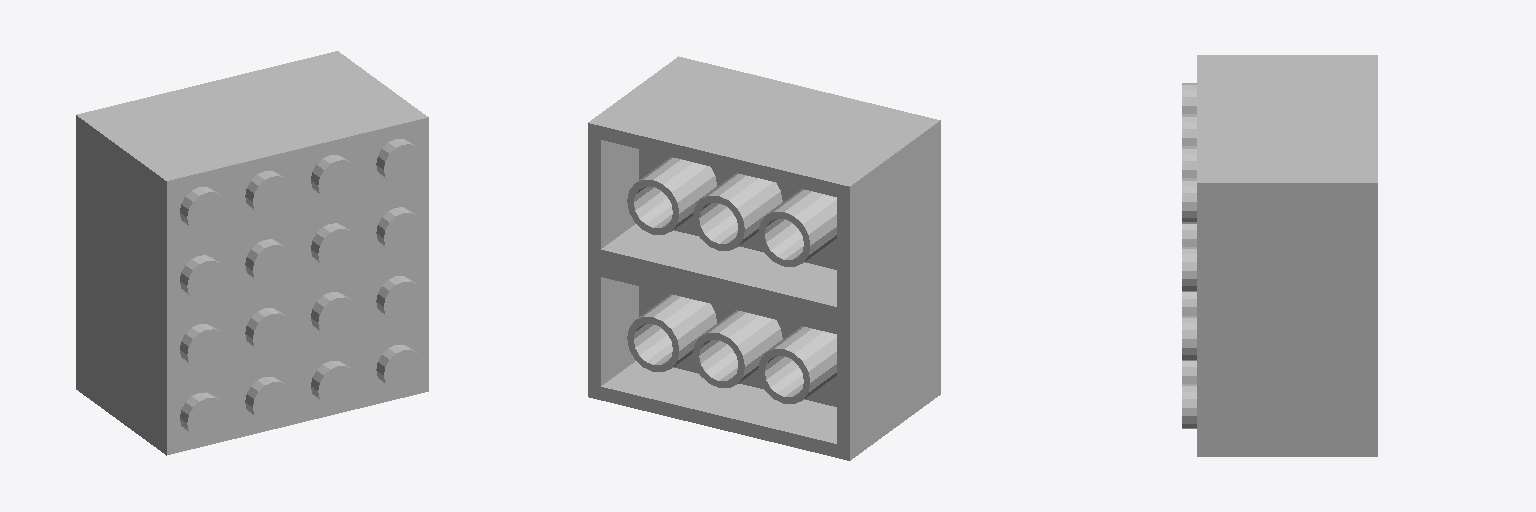
Rendered from battery.obj.
3 views of the same model, side by side, from view 1: azimuth 30°, elevation 25°; view 2: azimuth 150°, elevation 25°; view 3: azimuth 270°, elevation 25° (orthographic).
Parts seen in each view (by area): view 1: Piece002, Piece003, Piece001, Piece000; view 2: Piece001, Piece000, Piece002, Piece003; view 3: Piece003, Piece001, Piece000, Piece002.
Boxes of the visible parts, <box> form: Piece002: <box>121,116,297,455</box>; Piece003: <box>253,84,428,422</box>; Piece001: <box>76,51,381,284</box>; Piece000: <box>76,253,120,421</box>; Piece001: <box>588,90,894,323</box>; Piece000: <box>588,260,894,460</box>; Piece002: <box>764,88,940,427</box>; Piece003: <box>633,56,808,120</box>; Piece003: <box>1182,119,1287,456</box>; Piece001: <box>1288,55,1377,319</box>; Piece000: <box>1288,320,1377,456</box>; Piece002: <box>1182,55,1287,145</box>.
Bounding box in the file's own units: 80 × 80 × 52.